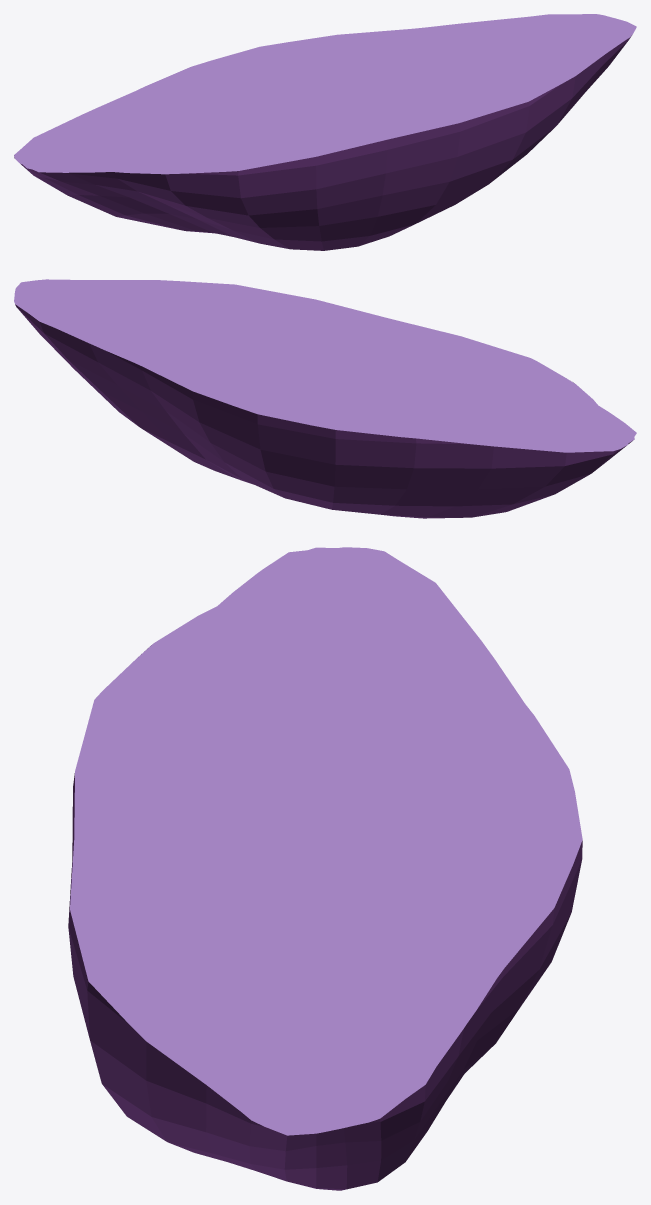
The model's file is ube_half.glb.
3 renders of one model, top to bottom at view 1: azimuth 30°, elevation 25°; view 2: azimuth 150°, elevation 25°; view 3: azimuth 270°, elevation 25°, orthographic. The views are drawn at different scales.
Visible parts, largest first — view 1: ube_half; view 2: ube_half; view 3: ube_half.
Part boxes in pixels (left/top/right/bottom): ube_half: left=14, top=14, right=636, bottom=250; ube_half: left=14, top=279, right=636, bottom=518; ube_half: left=68, top=547, right=582, bottom=1190.
Size of the model in its own units: 1.16 by 0.2477 by 0.4291.
